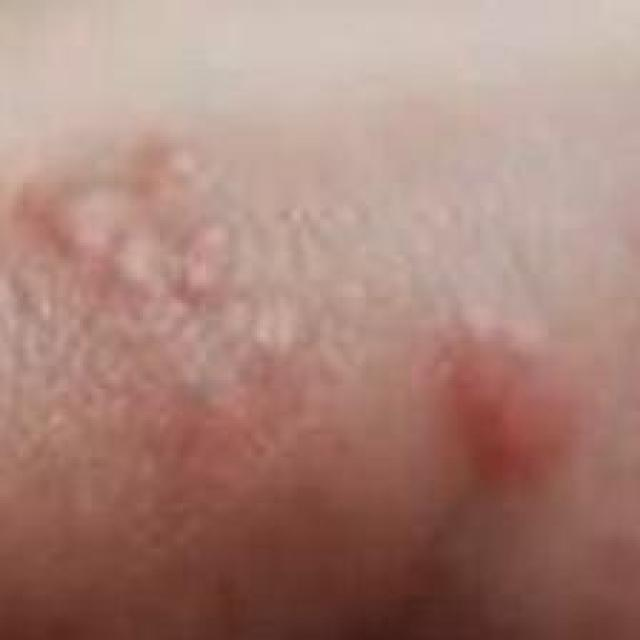monkeypox: (0, 89, 628, 627)
